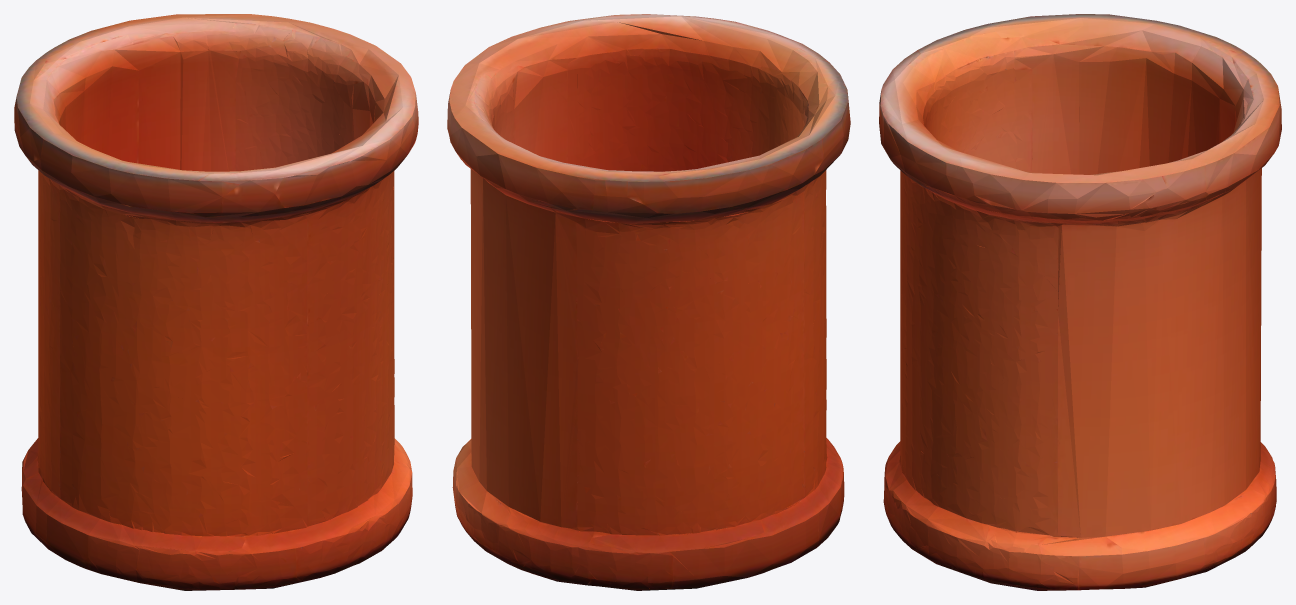
File: dicecup.glb
3 renders of one model, left to right at view 1: azimuth 30°, elevation 25°; view 2: azimuth 150°, elevation 25°; view 3: azimuth 270°, elevation 25°, orthographic.
Parts seen in each view (by area): view 1: world; view 2: world; view 3: world.
Boxes of the visible parts, x1=… form: world: x1=14, y1=14, x2=418, y2=590; world: x1=447, y1=14, x2=850, y2=590; world: x1=879, y1=14, x2=1281, y2=590.
Bounding box in the file's own units: 0.6694 × 0.7648 × 0.666.
1 material, 1 textured.
